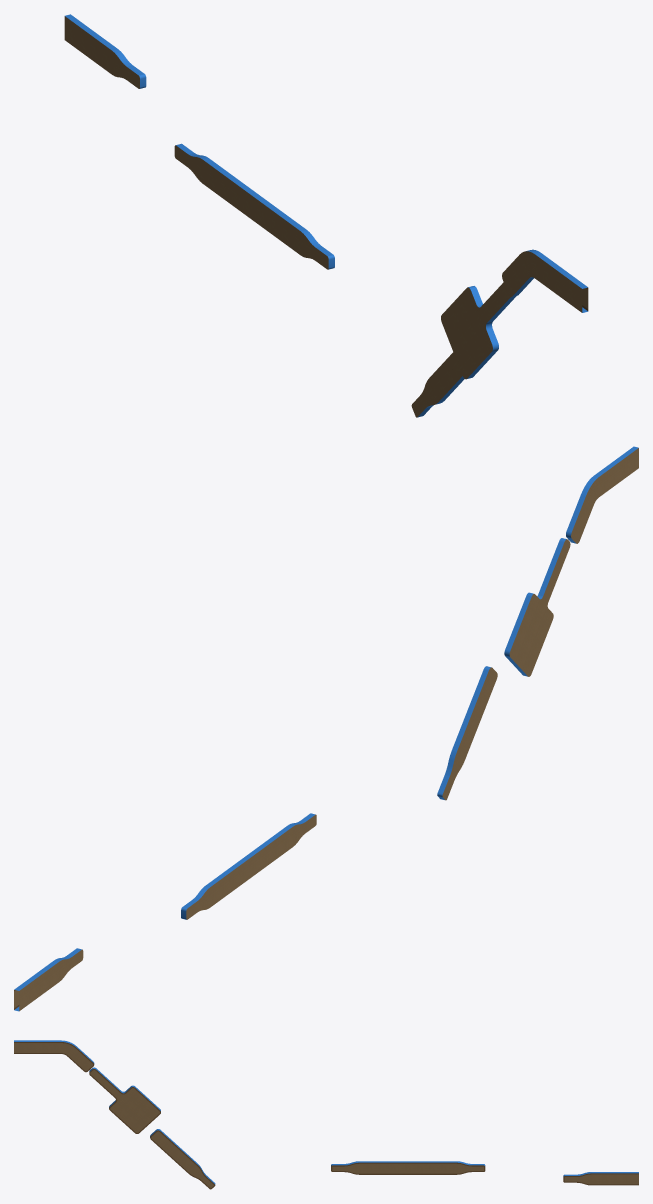
The model's file is ramp_15.FBX.
3 renders of one model, top to bottom at view 1: azimuth 30°, elevation 25°; view 2: azimuth 150°, elevation 25°; view 3: azimuth 270°, elevation 25°, orthographic. The views are drawn at different scales.
Parts seen in each view (by area): view 1: ramp_15; view 2: ramp_15; view 3: ramp_15.
Part boxes in pixels (<box>): ramp_15: <box>64,14,588,417</box>; ramp_15: <box>14,446,638,1011</box>; ramp_15: <box>14,1040,638,1189</box>.
Size of the model in its own units: 2634 by 6217 by 25153.
